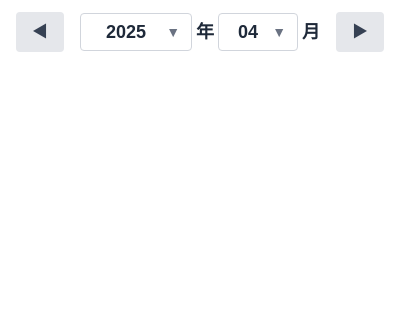
Test case: MonthNavigator › 年入力欄でEscapeキーを押すと候補リストが閉じる
Focus the dropdown named "年" at (136, 32), box [80, 13, 192, 51]
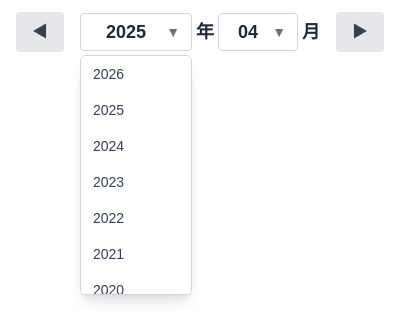
expect the list named "年候補" is shown: met, box [80, 55, 192, 295]
Press Escape in the dropdown named "年", box [80, 13, 192, 51]
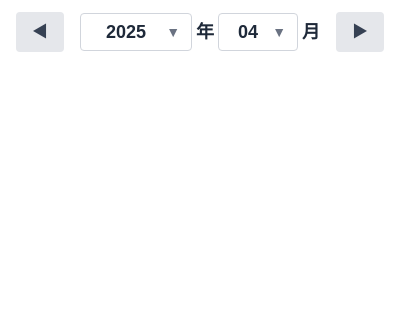
expect the list labelled "年候補" is gone: met
